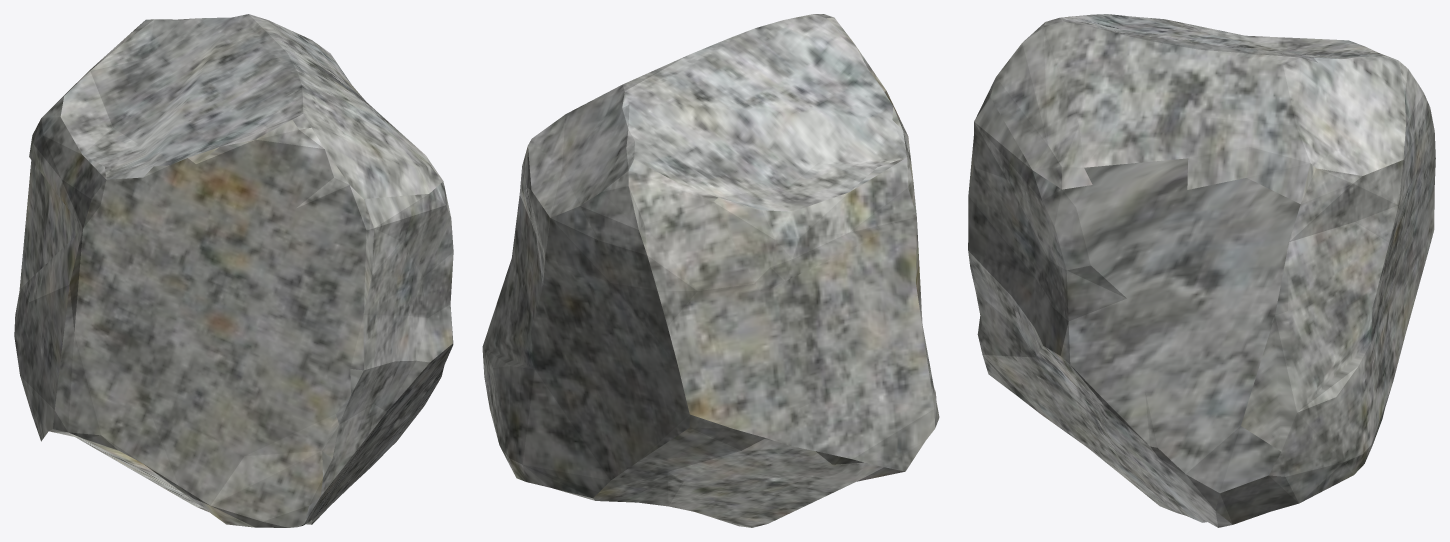
File: molasse.glb
The picture shows the model from 3 angles, left to right: view 1: azimuth 30°, elevation 25°; view 2: azimuth 150°, elevation 25°; view 3: azimuth 270°, elevation 25°; orthographic projection. The views are drawn at different scales.
Visible parts, largest first — view 1: Cube.001; view 2: Cube.001; view 3: Cube.001.
Boxes of the visible parts, left/top/right/bottom form: Cube.001: left=14, top=14, right=453, bottom=527; Cube.001: left=482, top=14, right=939, bottom=527; Cube.001: left=968, top=14, right=1435, bottom=527.
Size of the model in its own units: 1.79 by 1.97 by 1.83.
Materials: 1 (1 with a texture image).
